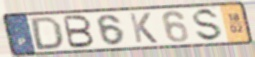6: (95, 13, 126, 47), (160, 9, 190, 44)
B: (62, 15, 96, 50)
D: (30, 15, 65, 51)
K: (127, 11, 160, 44)
S: (192, 7, 224, 43)
